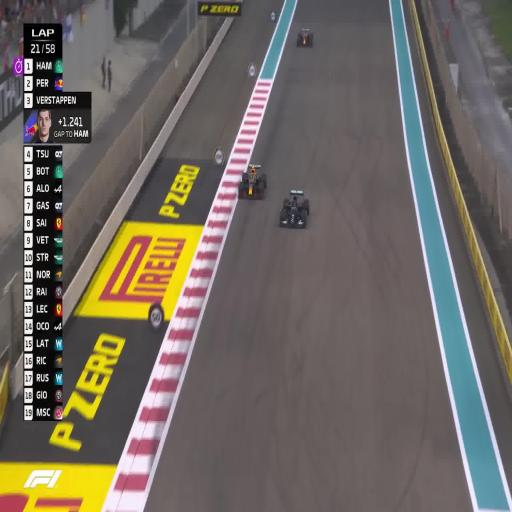f1_car: (279, 189, 309, 227), (238, 165, 266, 198), (297, 28, 313, 47)
